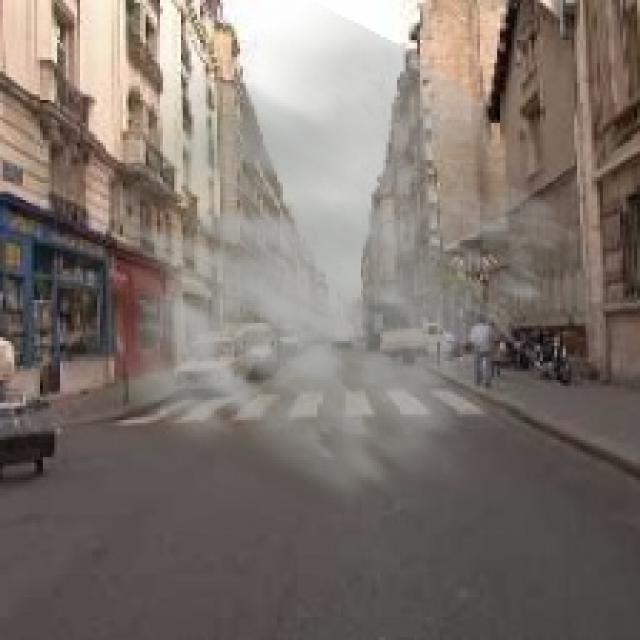Smoke: (17, 0, 583, 523)
